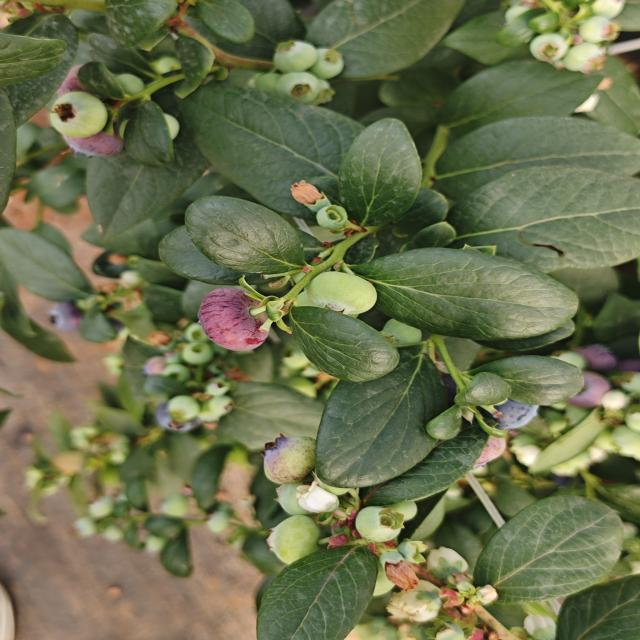ripe: (479, 386, 547, 432), (141, 397, 204, 435), (40, 296, 91, 334)
